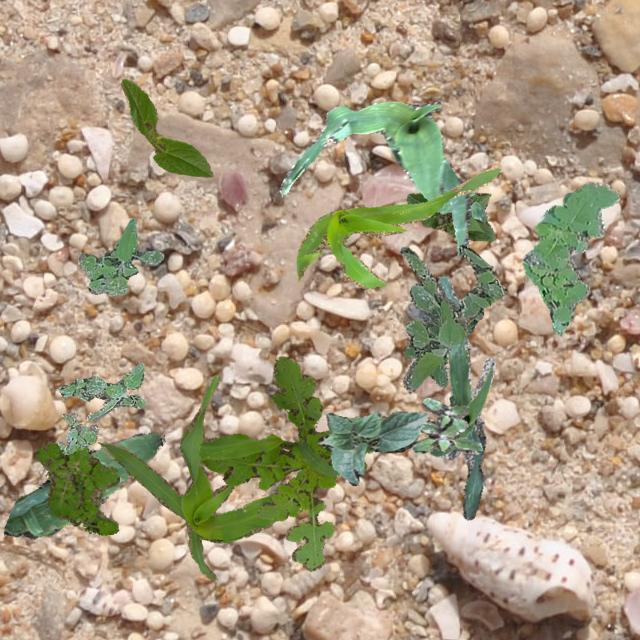crop: (98, 374, 304, 580), (278, 100, 470, 256), (296, 164, 500, 288), (2, 432, 162, 538), (430, 274, 494, 518), (120, 77, 212, 176), (316, 410, 428, 484), (406, 192, 494, 240)
weed: (198, 356, 372, 570), (400, 244, 504, 392), (522, 182, 618, 334), (36, 442, 119, 534), (76, 218, 162, 294), (402, 308, 482, 387), (58, 362, 144, 421), (412, 396, 482, 454), (56, 412, 98, 454), (438, 200, 486, 220)
